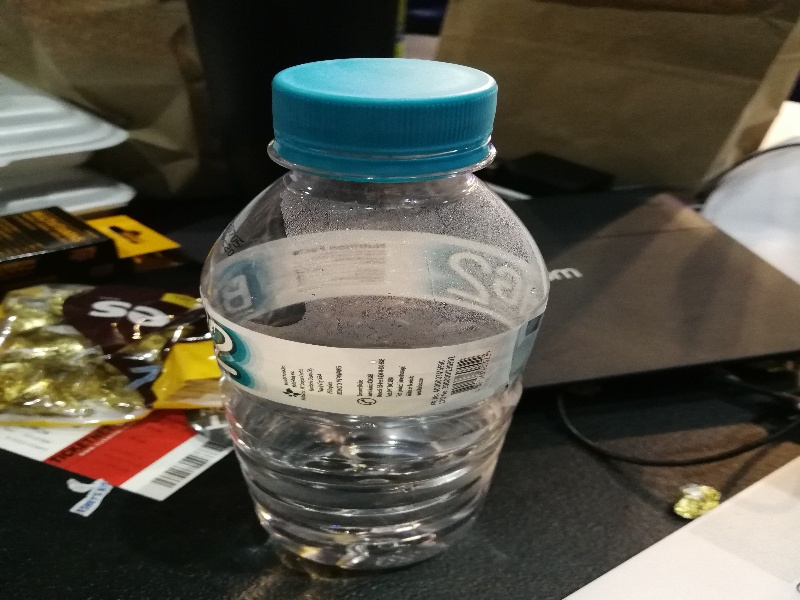PET #1: (194, 52, 551, 581)
